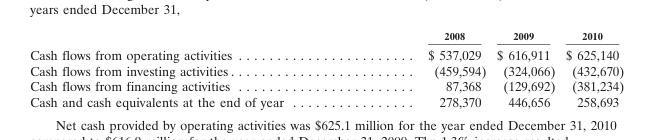table: (29, 28, 623, 109)
table column: (29, 28, 355, 109), (355, 28, 490, 109), (490, 28, 559, 109), (559, 28, 623, 109)
table column header: (29, 28, 623, 43)
table row: (29, 43, 623, 62), (29, 77, 623, 93), (29, 93, 623, 109), (29, 28, 623, 43), (29, 62, 623, 77)
